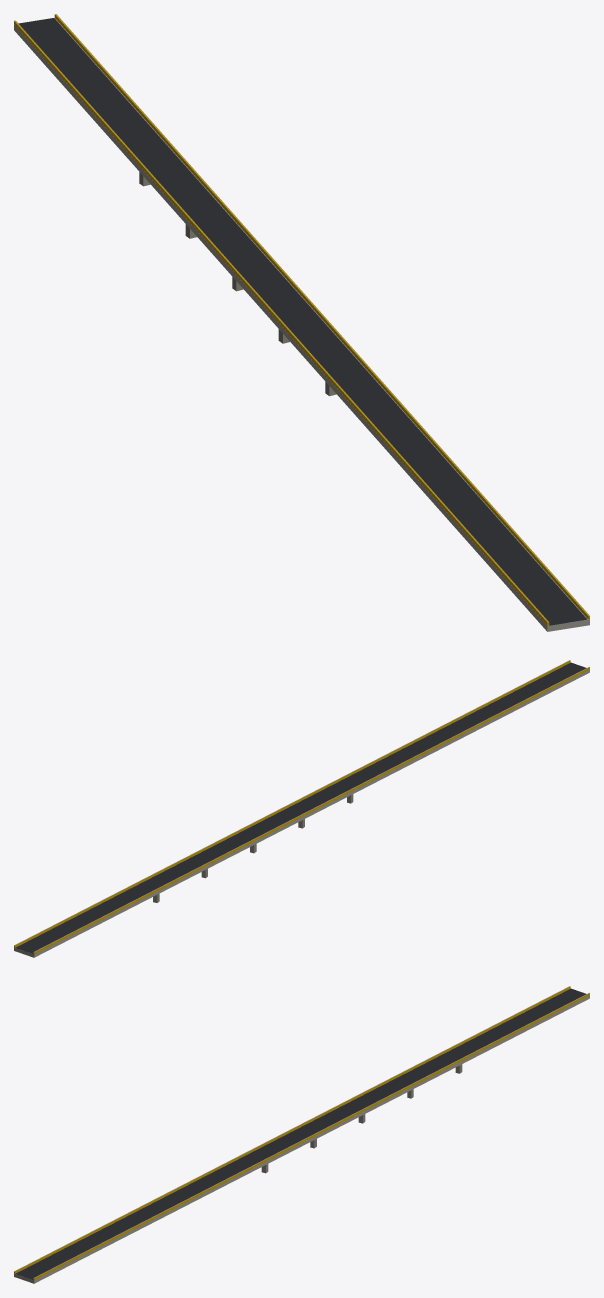
Rendered from jembatan-siak-1-lod0.glb.
The picture shows the model from 3 angles, top to bottom: view 1: azimuth 30°, elevation 25°; view 2: azimuth 150°, elevation 25°; view 3: azimuth 330°, elevation 25°; orthographic projection. The views are drawn at different scales.
Parts seen in each view (by area): view 1: jembatan-siak-1_LOD0; view 2: jembatan-siak-1_LOD0; view 3: jembatan-siak-1_LOD0.
Boxes of the visible parts, x1,y1,x2,y2 form: jembatan-siak-1_LOD0: (14, 14, 589, 631); jembatan-siak-1_LOD0: (14, 660, 589, 957); jembatan-siak-1_LOD0: (14, 986, 589, 1283).
Bounding box in the file's own units: 77.84 × 8.06 × 398.
